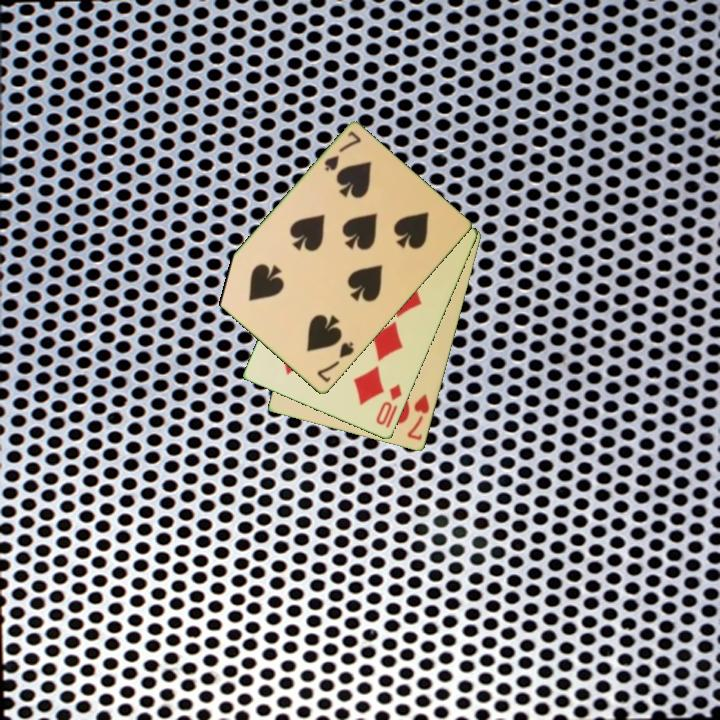10d: (372, 380, 405, 432)
7h: (404, 391, 433, 444)
7s: (313, 339, 357, 386), (321, 128, 364, 175)
